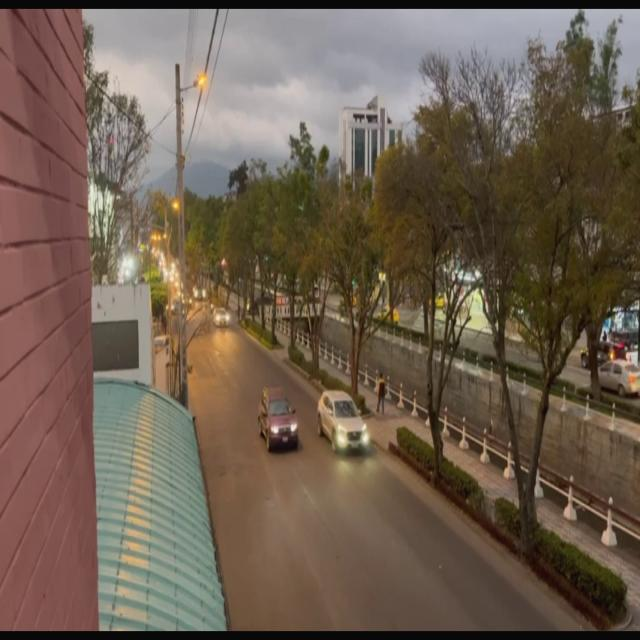SUV: (317, 388, 370, 452), (261, 390, 298, 450)
